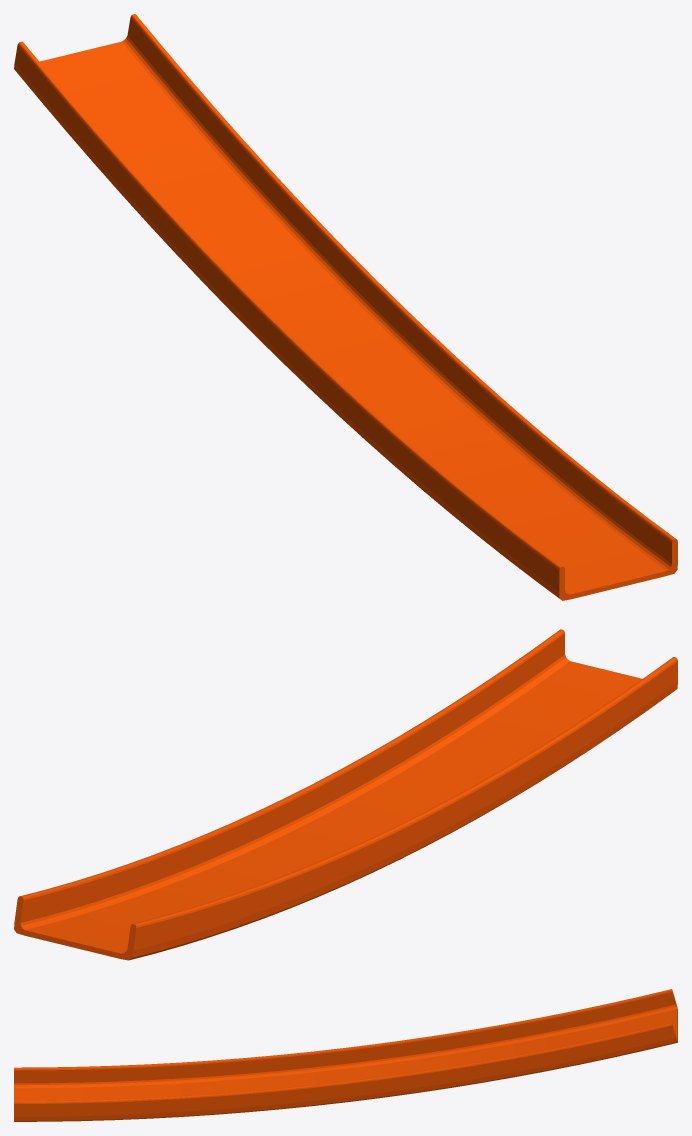
Rendered from Subida 15.FBX.
3 views of the same model, one above another, from view 1: azimuth 30°, elevation 25°; view 2: azimuth 150°, elevation 25°; view 3: azimuth 270°, elevation 25° (orthographic). The views are drawn at different scales.
Parts seen in each view (by area): view 1: Subida 15; view 2: Subida 15; view 3: Subida 15.
Part boxes in pixels (left/top/right/bottom): Subida 15: left=14, top=14, right=677, bottom=600; Subida 15: left=14, top=629, right=677, bottom=960; Subida 15: left=14, top=989, right=677, bottom=1121.
Bounding box in the file's own units: 250 × 329 × 1990.
